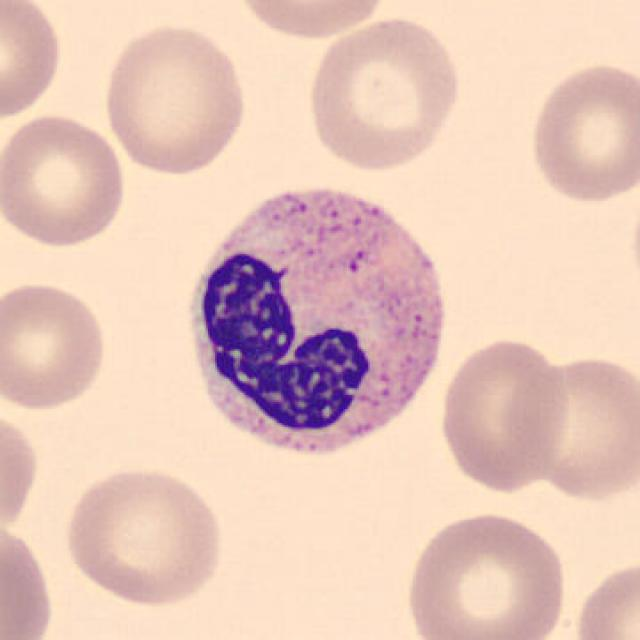Neutrophil: (172, 169, 458, 478)
RBC: (302, 12, 464, 174), (59, 462, 228, 610), (97, 19, 250, 178), (402, 506, 572, 640), (436, 334, 572, 496), (516, 349, 638, 504), (0, 110, 130, 250), (524, 56, 638, 206), (0, 277, 112, 414), (0, 0, 66, 123), (0, 515, 59, 640), (231, 0, 394, 42), (568, 553, 638, 640), (0, 398, 41, 542)
